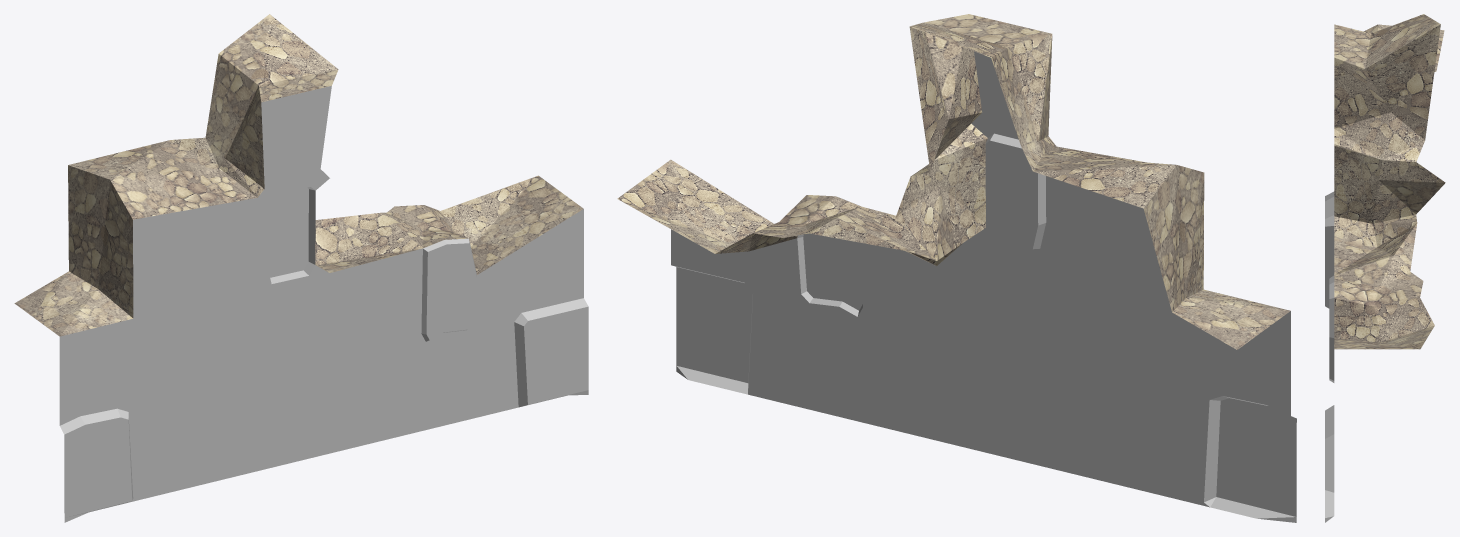
The model's file is SM_Blockout_Ruins_Wall_03.fbx.
3 renders of one model, left to right at view 1: azimuth 30°, elevation 25°; view 2: azimuth 150°, elevation 25°; view 3: azimuth 270°, elevation 25°, orthographic. The views are drawn at different scales.
Parts seen in each view (by area): view 1: Wall_Ruins_3; view 2: Wall_Ruins_3; view 3: Wall_Ruins_3.
Part boxes in pixels (<box>): Wall_Ruins_3: <box>14,14,588,522</box>; Wall_Ruins_3: <box>617,14,1296,522</box>; Wall_Ruins_3: <box>1325,14,1445,522</box>.
Bounding box in the file's own units: 200 × 146 × 42.01.
